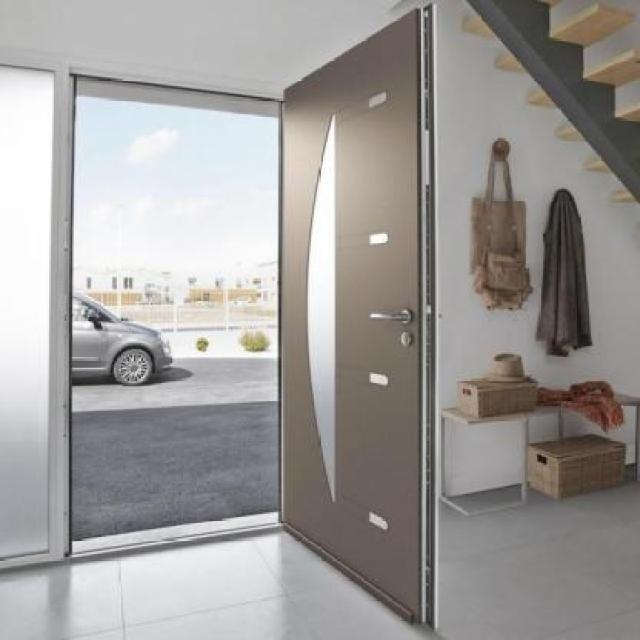door_handle: (359, 306, 414, 330)
